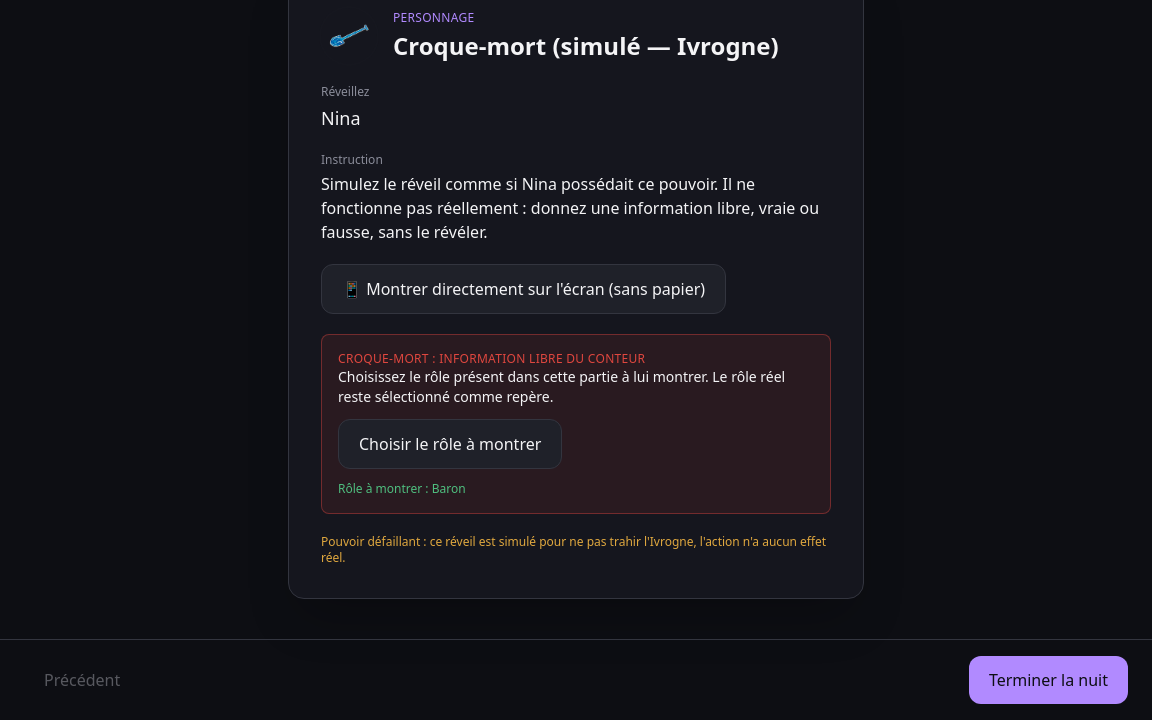
it: Drunk Undertaker simulation › lets the Storyteller choose the shown role
The width and height of the screenshot is (1152, 720).
(page scrolled)
Expected: the heading "Croque-mort (simulé — Ivrogne)" is shown, [393, 30, 779, 62]
Step 1. Click the button "Choisir le rôle à montrer" → [450, 444], box [338, 419, 562, 469]
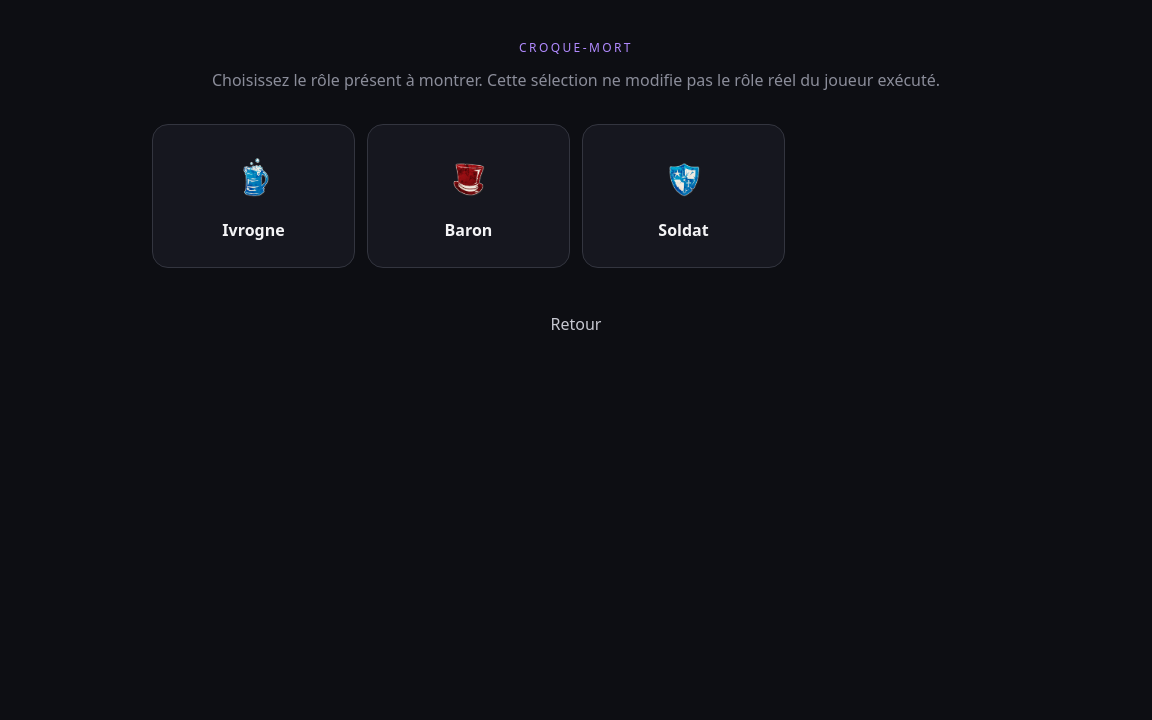
Step 2. Click the button "Soldat" → [684, 196], box [582, 124, 785, 268]
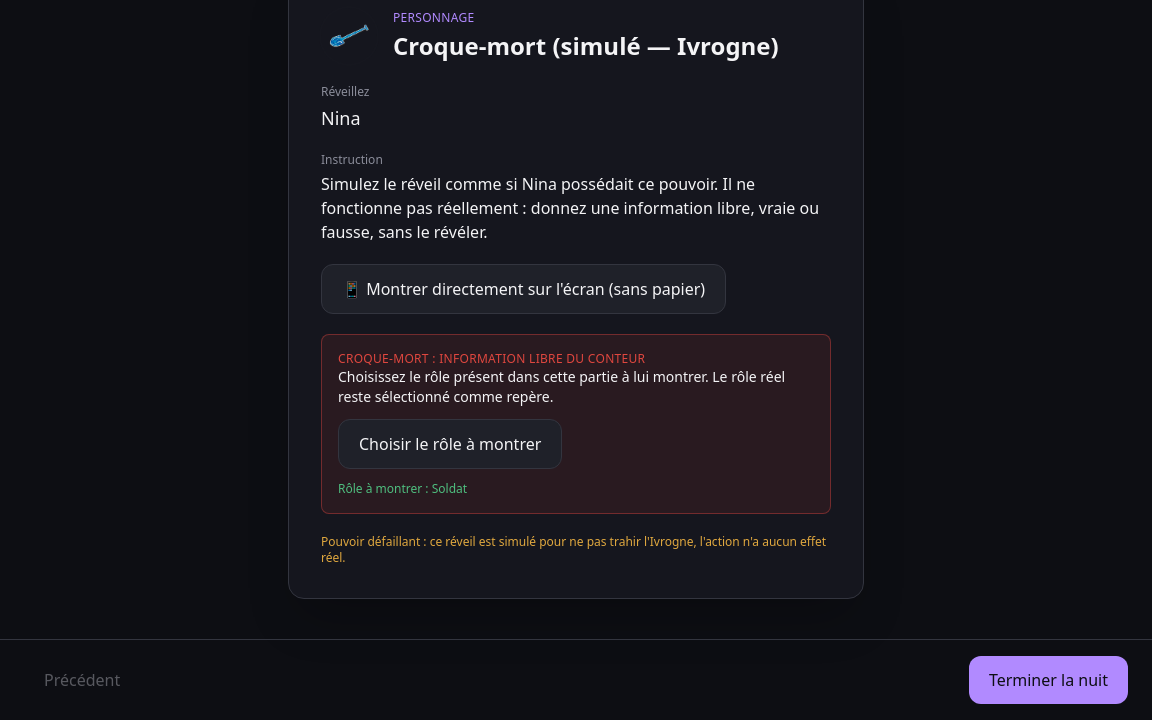
Expected: the text "Rôle à montrer : Soldat" is shown, [338, 480, 467, 497]
